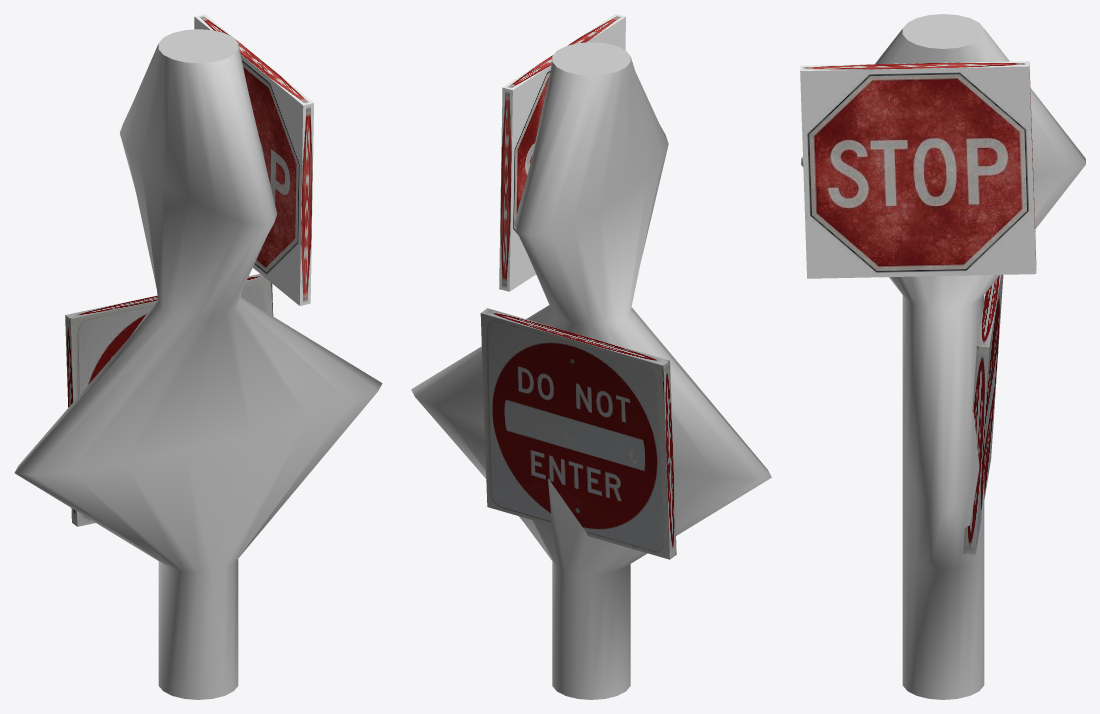
File: sign.FBX
3 renders of one model, left to right at view 1: azimuth 30°, elevation 25°; view 2: azimuth 150°, elevation 25°; view 3: azimuth 270°, elevation 25°, orthographic. The views are drawn at different scales.
Visible parts, largest first — view 1: Cylinder001, Box002, Box001; view 2: Cylinder001, Box001, Box002; view 3: Box002, Cylinder001, Box001.
Boxes of the visible parts, <box> form: Cylinder001: <box>14,29,382,699</box>; Box002: <box>194,14,313,305</box>; Box001: <box>65,274,273,526</box>; Cylinder001: <box>411,42,771,699</box>; Box001: <box>480,308,676,559</box>; Box002: <box>499,14,625,291</box>; Box002: <box>800,61,1036,278</box>; Cylinder001: <box>801,14,1085,699</box>; Box001: <box>963,274,1003,554</box>.
Size of the model in its own units: 18.78 by 31.03 by 12.35.
Materials: 2 (2 with a texture image).
